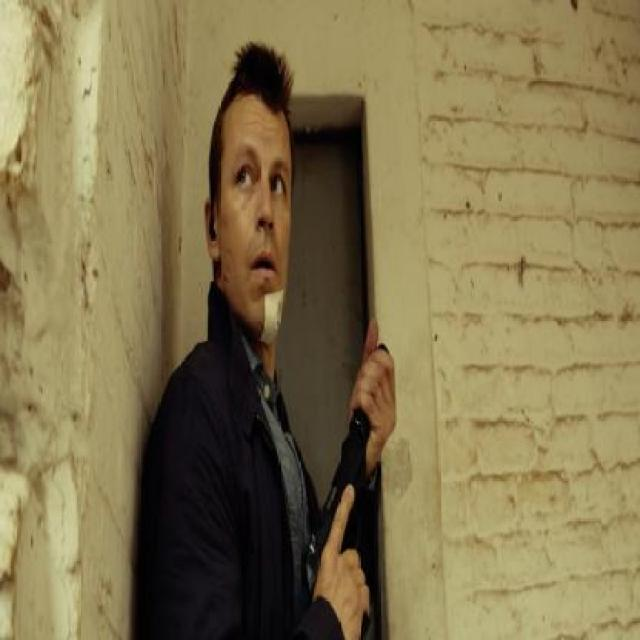gun: (300, 290, 409, 636)
